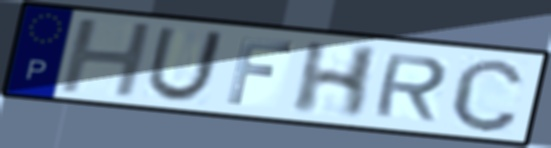C: (446, 55, 528, 134)
F: (223, 35, 297, 107)
H: (55, 17, 158, 99), (287, 40, 384, 120)
R: (369, 52, 451, 124)
U: (142, 25, 229, 105)
